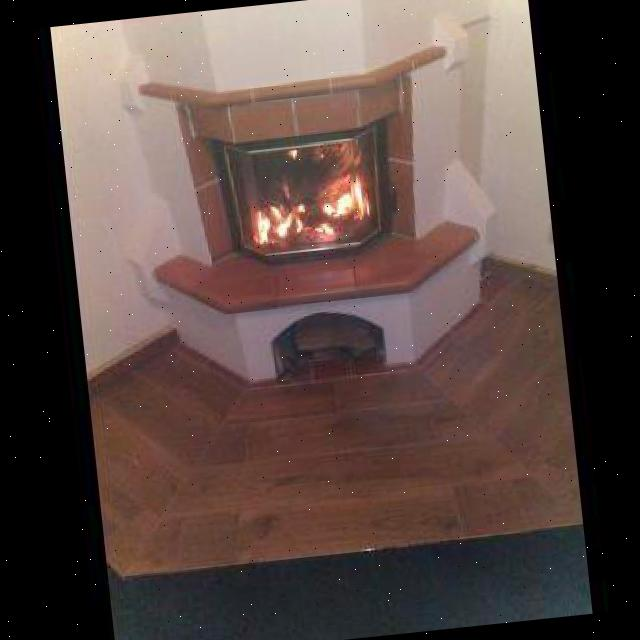fire: (230, 124, 380, 256)
